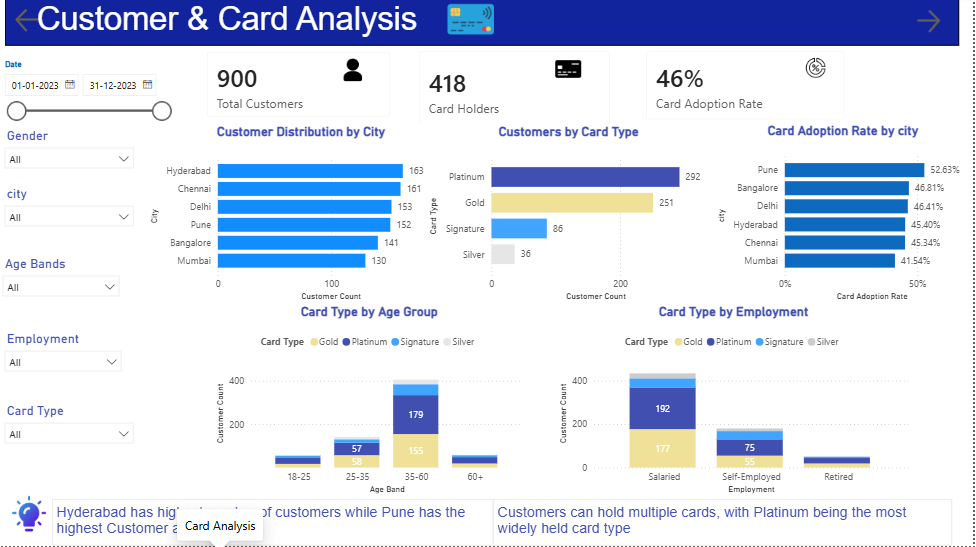

This screenshot's page, from the dashboard's own definition file:
{"tool":"powerbi","page":{"name":"Card Analysis","canvas":[1280,720],"ordinal":1},"visuals":[{"type":"textbox","box":[13.1,0,1248.9,65.5],"z":0},{"type":"cardVisual","fields":{"Data":["Customers.Total Customers"]},"box":[271.7,68.6,250.3,95.8],"z":1000},{"type":"cardVisual","fields":{"Data":["Transactions.Card Holders"]},"box":[549.2,67.2,260.3,111.6],"z":2000},{"type":"cardVisual","fields":{"Data":["Transactions.Card Adoption Rate"]},"box":[852.4,67.2,260.3,100.1],"z":3000},{"type":"clusteredBarChart","title":"Customer Distribution by City","fields":{"Category":["Customers.city"],"Y":["Count(Customers.customer_id)"]},"box":[197.4,167.3,406.2,236],"z":4000},{"type":"barChart","title":"Customers by Card Type","fields":{"Category":["Transactions.Card Type"],"Y":["Count(Transactions.customer_id)"]},"box":[563.5,167.3,376.1,236],"z":5000},{"type":"columnChart","title":"Card Type by Age Group","fields":{"Series":["Transactions.Card Type"],"Y":["Count(Transactions.customer_id)"],"Category":["Customers.Age Bands"]},"box":[284.6,403.3,411.9,253.1],"z":6000},{"type":"columnChart","title":"Card Type by Employment","fields":{"Series":["Transactions.Card Type"],"Y":["Count(Transactions.customer_id)"],"Category":["Customers.Employment"]},"box":[733.7,403.3,467.7,253.1],"z":7000},{"type":"clusteredBarChart","fields":{"Y":["Transactions.Card Adoption Rate"],"Category":["Customers.city"]},"box":[939.6,165.9,340.4,237.4],"z":8000},{"type":"image","box":[679.3,78.7,141.6,34.3],"z":9000},{"type":"image","box":[522,0,201.7,62.9],"z":10000},{"type":"image","box":[446.2,81.5,44.3,31.5],"z":11000},{"type":"image","box":[1054,78.7,41.5,31.5],"z":12000},{"type":"slicer","title":"DATE","fields":{"Values":["DateTable.Date"]},"box":[0,78.7,240.3,100.1],"z":13000},{"type":"slicer","fields":{"Values":["Customers.Gender"]},"box":[2.9,167.3,188.8,84.4],"z":14000},{"type":"slicer","fields":{"Values":["Customers.city"]},"box":[2.9,243.1,188.8,82.9],"z":15000},{"type":"slicer","fields":{"Values":["Customers.Age Bands"]},"box":[0,334.7,173.1,84.4],"z":16000},{"type":"slicer","fields":{"Values":["Customers.Employment"]},"box":[2.9,433.3,173.1,84.4],"z":17000},{"type":"slicer","fields":{"Values":["Transactions.Card Type"]},"box":[2.9,527.7,188.8,84.4],"z":18000},{"type":"actionButton","box":[1201.3,12.9,45.8,40],"z":19000},{"type":"actionButton","box":[22.3,11.8,42.9,40],"z":20000},{"type":"textbox","box":[652.2,657.9,600.7,61.5],"z":21000},{"type":"image","box":[12.9,653.6,62.9,48.6],"z":22000},{"type":"textbox","box":[74.4,657.9,577.8,61.5],"z":23000}]}

Visuals, with their boxes in screenshot pixels (x1, y1, x2, y2), scaled from the page's 1280x720 canvas onto the 976x547 screenshot:
textbox: left=10, top=0, right=962, bottom=50
cardVisual - Customers.Total Customers: left=207, top=52, right=398, bottom=125
cardVisual - Transactions.Card Holders: left=419, top=51, right=617, bottom=136
cardVisual - Transactions.Card Adoption Rate: left=650, top=51, right=848, bottom=127
"Customer Distribution by City" clusteredBarChart: left=151, top=127, right=460, bottom=306
"Customers by Card Type" barChart: left=430, top=127, right=716, bottom=306
"Card Type by Age Group" columnChart: left=217, top=306, right=531, bottom=499
"Card Type by Employment" columnChart: left=559, top=306, right=916, bottom=499
clusteredBarChart - Transactions.Card Adoption Rate x Customers.city: left=716, top=126, right=975, bottom=306
image: left=518, top=60, right=626, bottom=86
image: left=398, top=0, right=552, bottom=48
image: left=340, top=62, right=374, bottom=86
image: left=804, top=60, right=835, bottom=84
"DATE" slicer: left=0, top=60, right=183, bottom=136
slicer - Customers.Gender: left=2, top=127, right=146, bottom=191
slicer - Customers.city: left=2, top=185, right=146, bottom=248
slicer - Customers.Age Bands: left=0, top=254, right=132, bottom=318
slicer - Customers.Employment: left=2, top=329, right=134, bottom=393
slicer - Transactions.Card Type: left=2, top=401, right=146, bottom=465
actionButton: left=916, top=10, right=951, bottom=40
actionButton: left=17, top=9, right=50, bottom=39
textbox: left=497, top=500, right=955, bottom=546
image: left=10, top=497, right=58, bottom=533
textbox: left=57, top=500, right=497, bottom=546
